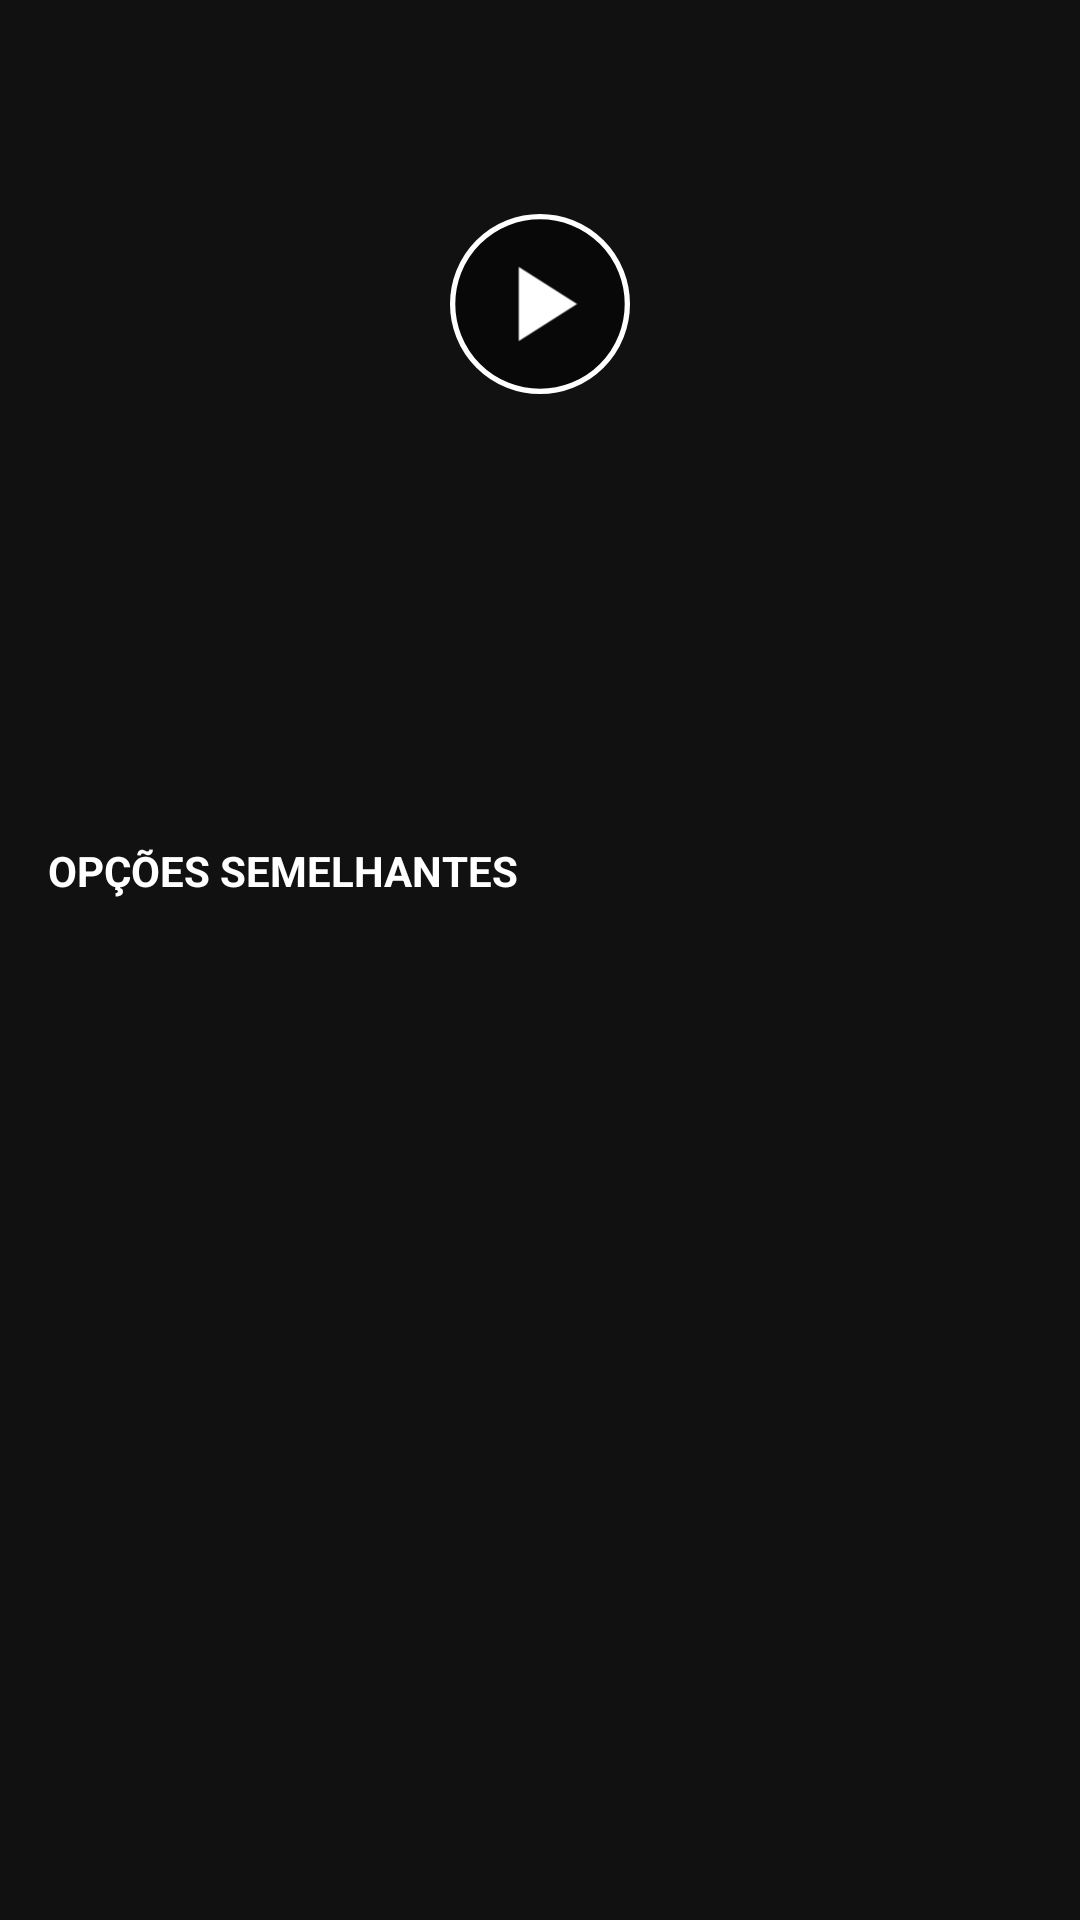

Icon bounding boxes for this 1080w x 1920h phone screenshot, format (left=x1, top=y1, right=x2, bottom=y2):
play: (left=450, top=214, right=630, bottom=394)
